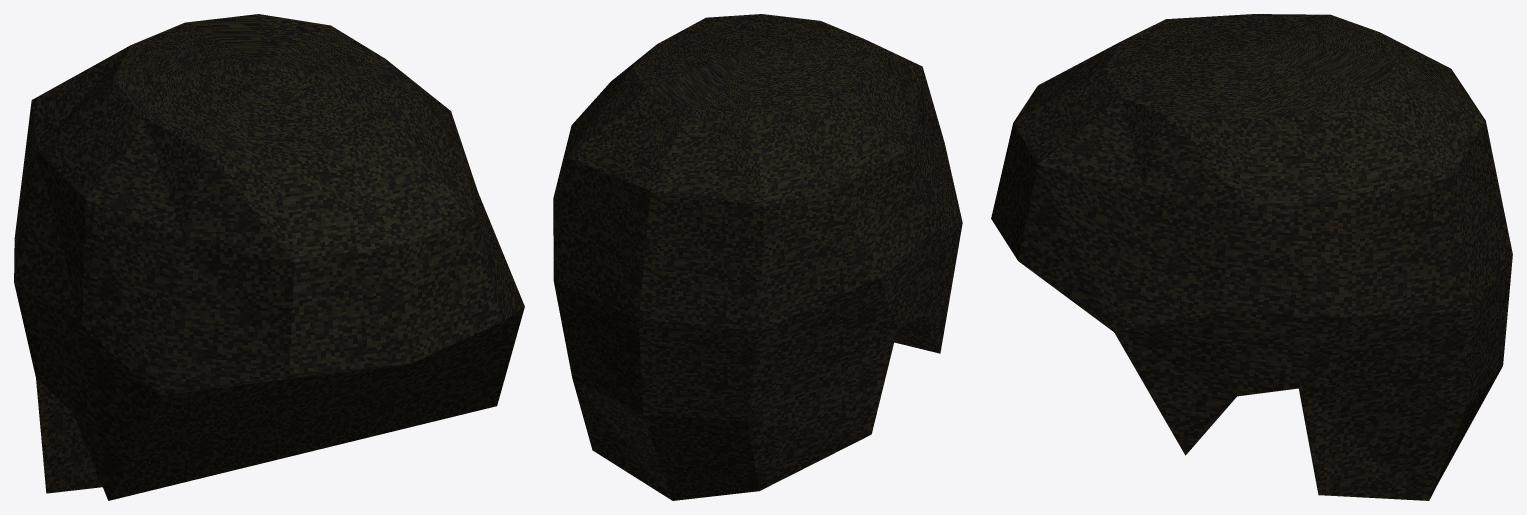
Rendered from short02.glb.
3 renders of one model, left to right at view 1: azimuth 30°, elevation 25°; view 2: azimuth 150°, elevation 25°; view 3: azimuth 270°, elevation 25°, orthographic. The views are drawn at different scales.
Visible parts, largest first — view 1: hair_short02; view 2: hair_short02; view 3: hair_short02.
Boxes of the visible parts, bbox=[...] form: hair_short02: bbox=[14, 14, 524, 500]; hair_short02: bbox=[553, 14, 962, 500]; hair_short02: bbox=[991, 14, 1512, 500].
Bounding box in the file's own units: 0.172 × 0.198 × 0.212.
Materials: 1 (1 with a texture image).
